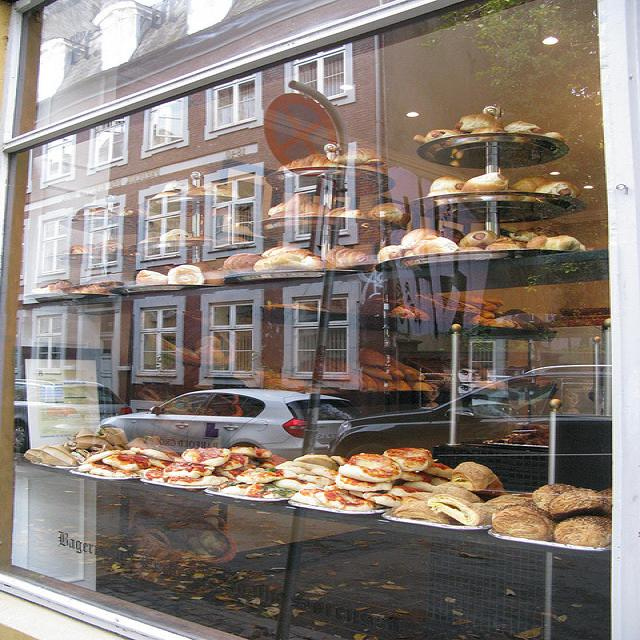Vehicle: (330, 364, 616, 495), (96, 388, 363, 456), (13, 379, 132, 455)
